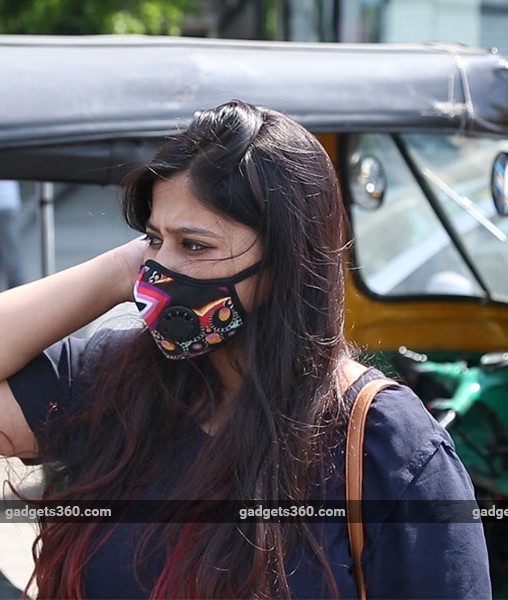with_mask: (121, 163, 327, 373)
